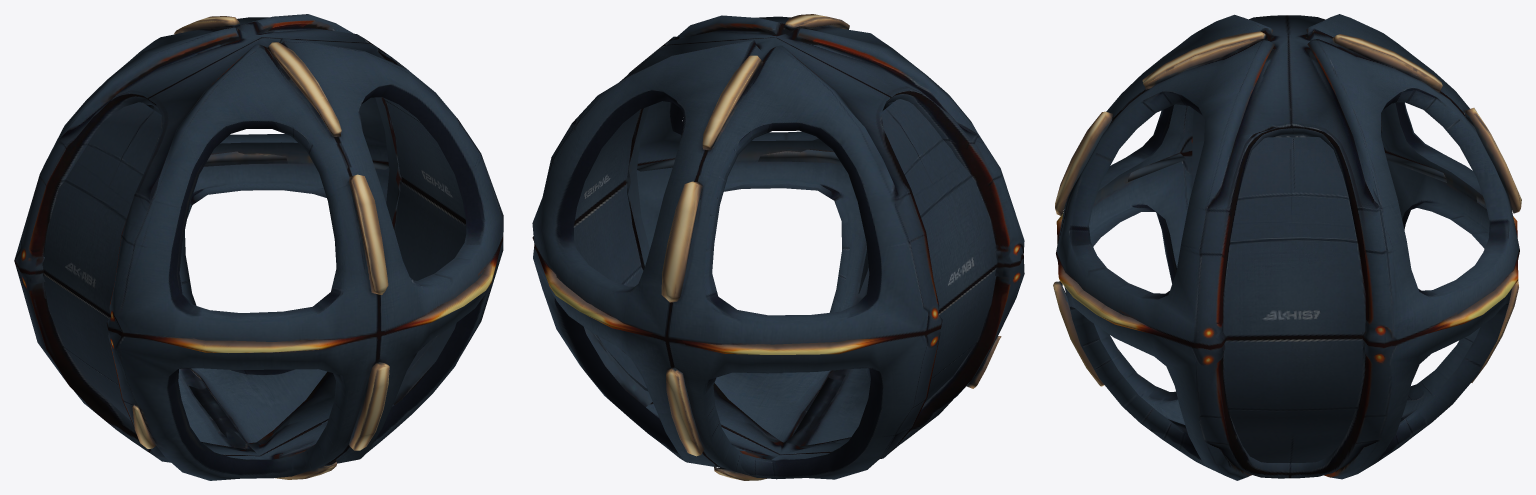
The model's file is tripo_convert_4c7edc85-21b8-4e5b-bbbc-39fea0b83d25.fbx.
3 views of the same model, side by side, from view 1: azimuth 30°, elevation 25°; view 2: azimuth 150°, elevation 25°; view 3: azimuth 270°, elevation 25° (orthographic).
Parts seen in each view (by area): view 1: tripo_node_4c7edc85; view 2: tripo_node_4c7edc85; view 3: tripo_node_4c7edc85.
Part boxes in pixels (x1=…): tripo_node_4c7edc85: x1=14, y1=14, x2=503, y2=480; tripo_node_4c7edc85: x1=532, y1=14, x2=1024, y2=480; tripo_node_4c7edc85: x1=1053, y1=14, x2=1521, y2=480.
Size of the model in its own units: 0.9902 by 0.998 by 0.9941.
Materials: 1 (1 with a texture image).
